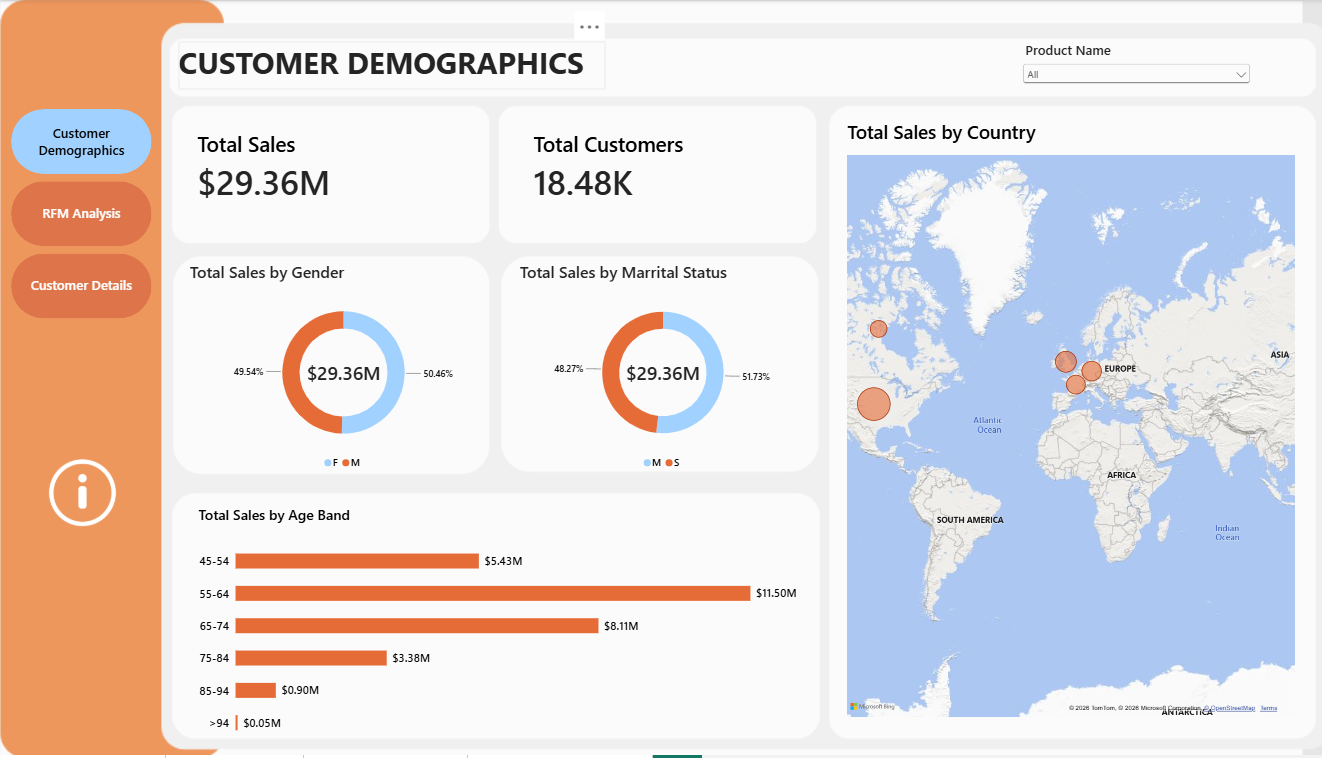

What the dashboard file says about the page in this screenshot:
{"tool":"powerbi","page":{"name":"Customer Demographics","canvas":[1920,1080],"ordinal":0},"visuals":[{"type":"cardVisual","fields":{"Data":["Sum(FactInternetSales.SalesAmount)"]},"box":[301.8,144.6,356.1,189.4],"z":0},{"type":"cardVisual","fields":{"Data":["_Measures.Total Customers"]},"box":[782.1,144.6,356.1,189.4],"z":1000},{"type":"donutChart","title":"Total Sales by Gender","fields":{"Category":["DimCustomer.Gender"],"Y":["Sum(FactInternetSales.SalesAmount)"]},"box":[275,358.9,471.4,333.9],"z":1001},{"type":"donutChart","title":"Total Sales by Marrital Status","fields":{"Category":["DimCustomer.MaritalStatus"],"Y":["Sum(FactInternetSales.SalesAmount)"]},"box":[746.4,358.9,441.1,333.9],"z":1002},{"type":"clusteredBarChart","title":"Total Sales by Age Band","fields":{"Category":["Age Sort.Age Band"],"Y":["Sum(FactInternetSales.SalesAmount)"]},"box":[287.5,708.9,887.5,371.4],"z":1003},{"type":"map","title":"Total Sales by Country","fields":{"Category":["DimGeography.Country"],"Size":["Sum(FactInternetSales.SalesAmount)"]},"box":[1214.3,157.1,671.4,883.9],"z":1004},{"type":"textbox","box":[275,60.7,610.7,67.9],"z":1005},{"type":"slicer","fields":{"Values":["DimProduct.Product Name"]},"box":[1476.8,60.7,333.9,67.9],"z":1006},{"type":"pageNavigator","box":[35.7,157.1,201.8,301.8],"z":1007},{"type":"image","box":[67.9,655.4,139.3,100],"z":1008}]}

Visuals, with their boxes in screenshot pixels (x1, y1, x2, y2), scaled from the page's 1920x1080 canvas onto the 1322x758 screenshot:
cardVisual - Sum(FactInternetSales.SalesAmount): x1=208 y1=101 x2=453 y2=234
cardVisual - _Measures.Total Customers: x1=539 y1=101 x2=784 y2=234
"Total Sales by Gender" donutChart: x1=189 y1=252 x2=514 y2=486
"Total Sales by Marrital Status" donutChart: x1=514 y1=252 x2=818 y2=486
"Total Sales by Age Band" clusteredBarChart: x1=198 y1=498 x2=809 y2=757
"Total Sales by Country" map: x1=836 y1=110 x2=1298 y2=731
textbox: x1=189 y1=43 x2=610 y2=90
slicer - DimProduct.Product Name: x1=1017 y1=43 x2=1247 y2=90
pageNavigator: x1=25 y1=110 x2=164 y2=322
image: x1=47 y1=460 x2=143 y2=530
